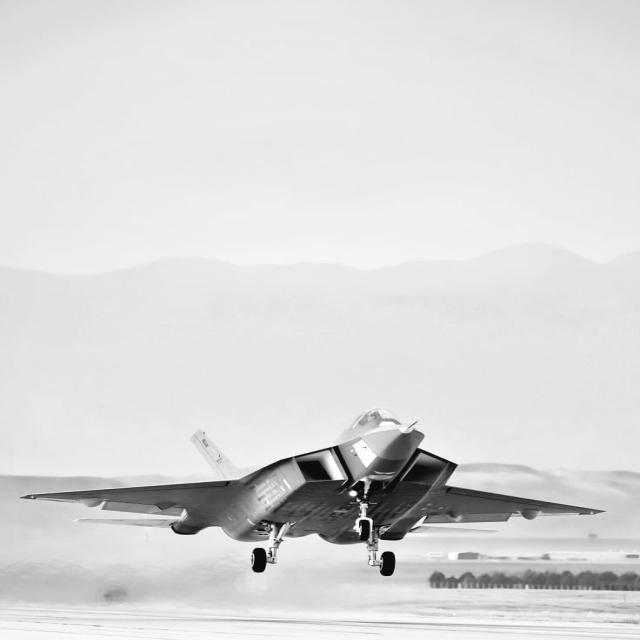iha: (16, 409, 602, 575)
